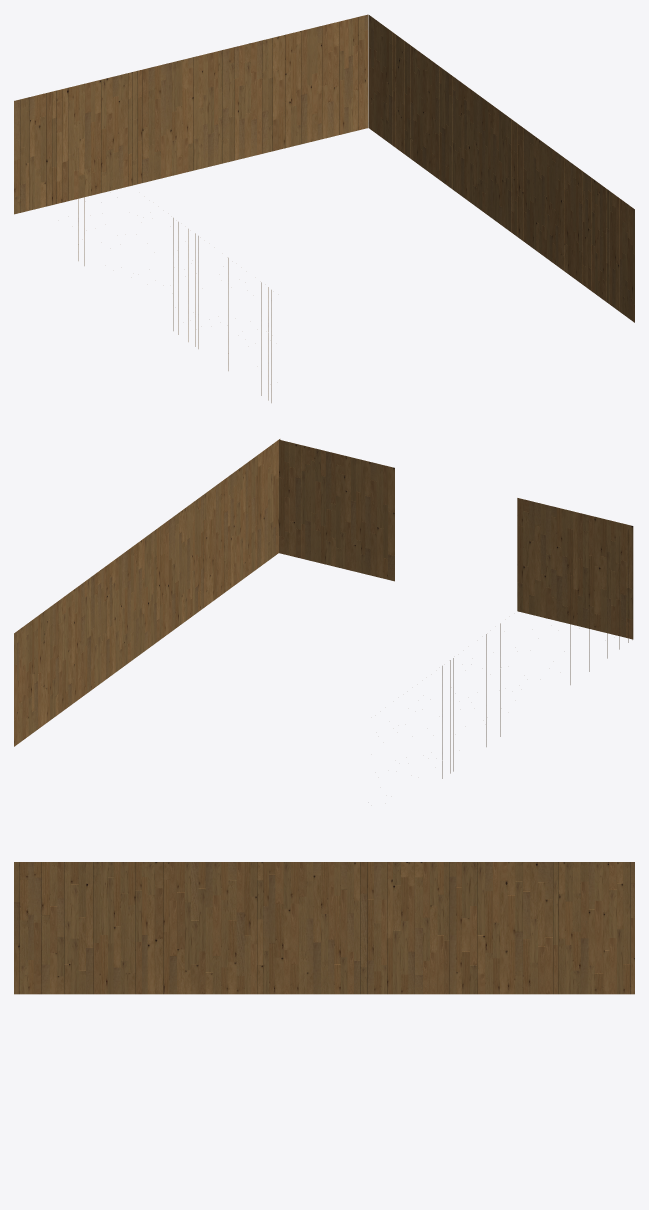
The model's file is arkade-wood-walls.glb.
3 renders of one model, top to bottom at view 1: azimuth 30°, elevation 25°; view 2: azimuth 150°, elevation 25°; view 3: azimuth 270°, elevation 25°, orthographic. The views are drawn at different scales.
Parts seen in each view (by area): view 1: Back wall, Right wall, Left wall; view 2: Right wall, Entry left, Entry right, Left wall; view 3: Left wall.
Part boxes in pixels (x1,y1,x2,y2): Back wall: [14, 14, 368, 214]; Right wall: [368, 15, 634, 322]; Left wall: [78, 148, 271, 402]; Right wall: [14, 439, 280, 746]; Entry left: [517, 498, 633, 639]; Entry right: [279, 439, 394, 581]; Left wall: [442, 527, 632, 778]; Left wall: [14, 862, 634, 994].
Bounding box in the file's own units: 13.72 × 4.2 × 17.86.
1 material, 1 textured.
